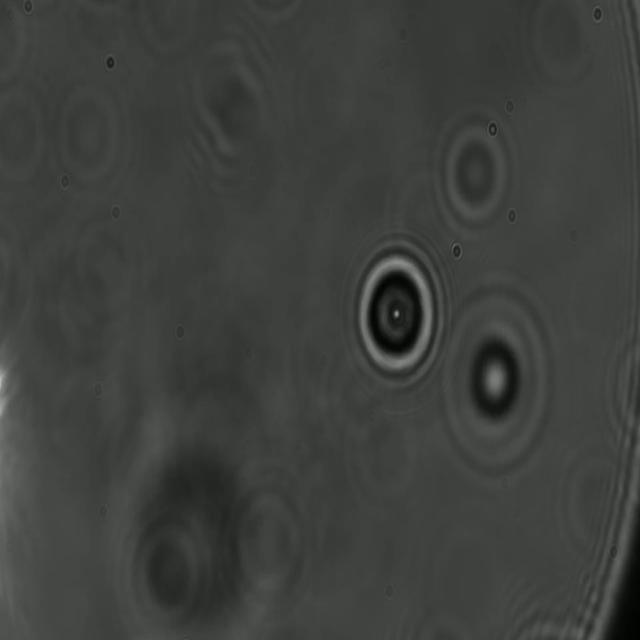LCELL: (348, 235, 449, 396)
